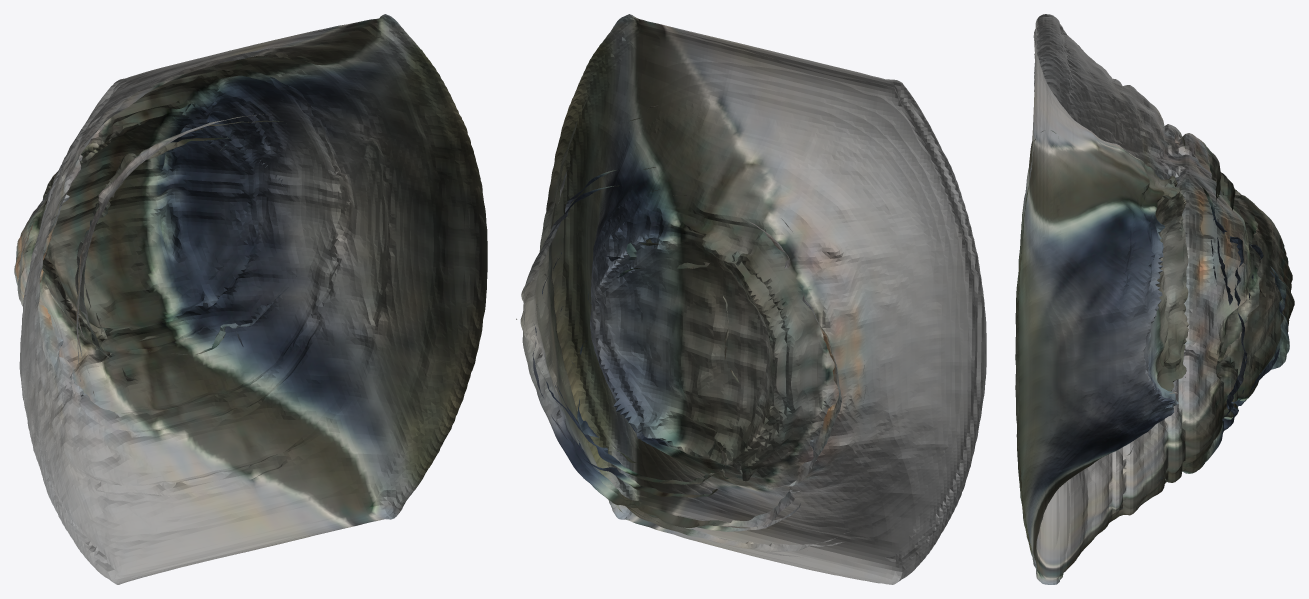
The picture shows the model from 3 angles, left to right: view 1: azimuth 30°, elevation 25°; view 2: azimuth 150°, elevation 25°; view 3: azimuth 270°, elevation 25°; orthographic projection. The views are drawn at different scales.
Visible parts, largest first — view 1: world; view 2: world; view 3: world.
Boxes of the visible parts, bbox=[...] form: world: bbox=[14, 14, 487, 584]; world: bbox=[516, 14, 986, 584]; world: bbox=[1015, 14, 1294, 584].
Size of the model in its own units: 0.9105 by 0.9777 by 0.5463.
